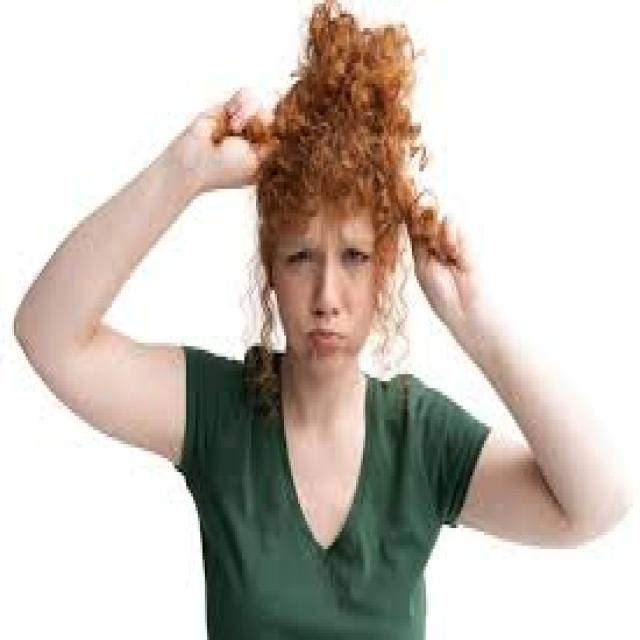surprised: (272, 172, 393, 388)
